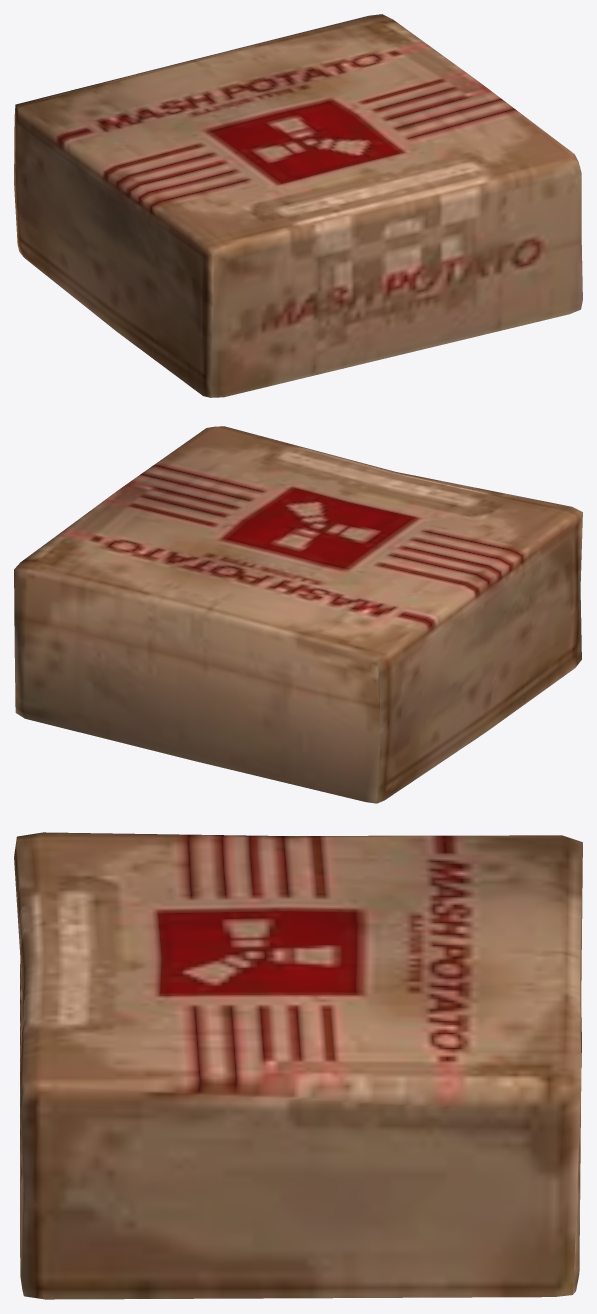
Rendered from mashpotato.glb.
3 renders of one model, top to bottom at view 1: azimuth 30°, elevation 25°; view 2: azimuth 150°, elevation 25°; view 3: azimuth 270°, elevation 25°, orthographic. The views are drawn at different scales.
Visible parts, largest first — view 1: mashpotato_LOD0; view 2: mashpotato_LOD0; view 3: mashpotato_LOD0.
Part boxes in pixels (x1,y1,x2,y2): mashpotato_LOD0: (14,14,582,397); mashpotato_LOD0: (14,426,582,803); mashpotato_LOD0: (14,832,582,1299).
Size of the model in its own units: 0.2806 by 0.113 by 0.2631.
1 material, 1 textured.
